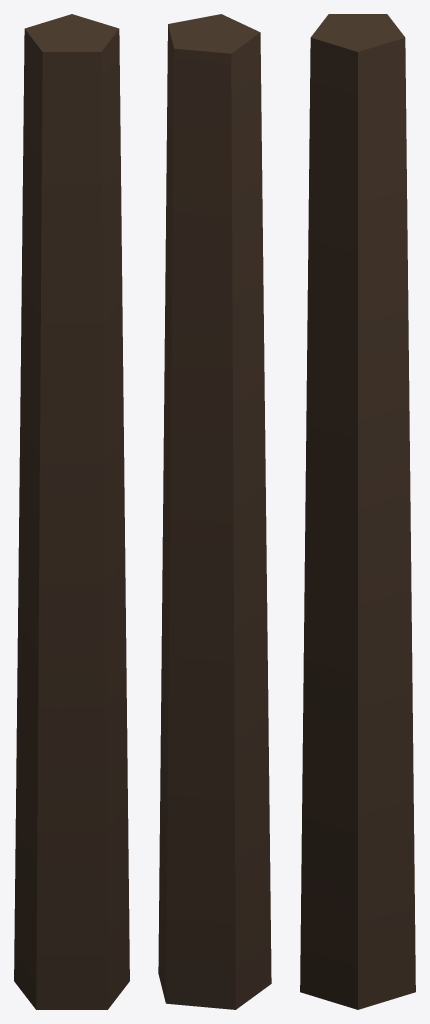
File: fr_post_lod1.glb
3 renders of one model, left to right at view 1: azimuth 90°, elevation 25°; view 2: azimuth 150°, elevation 25°; view 3: azimuth 270°, elevation 25°, orthographic.
Parts seen in each view (by area): view 1: fr_post_lod1; view 2: fr_post_lod1; view 3: fr_post_lod1.
Part boxes in pixels (bbox=[...]): fr_post_lod1: bbox=[14, 14, 129, 1009]; fr_post_lod1: bbox=[158, 14, 271, 1009]; fr_post_lod1: bbox=[300, 14, 415, 1009].
Size of the model in its own units: 0.199 by 1.9 by 0.2092.
